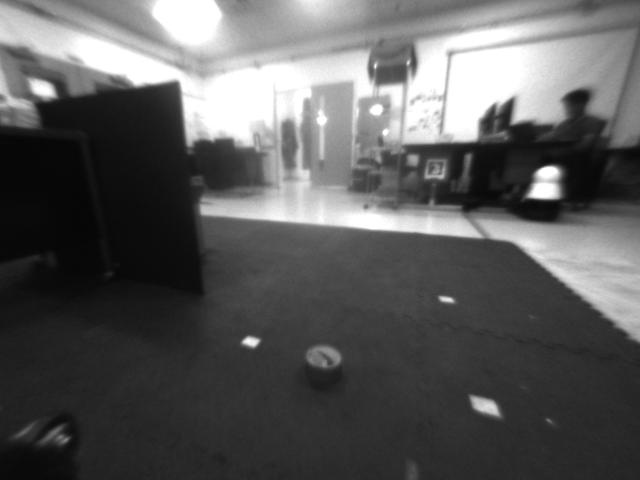dogtoy: (289, 337, 352, 391)
